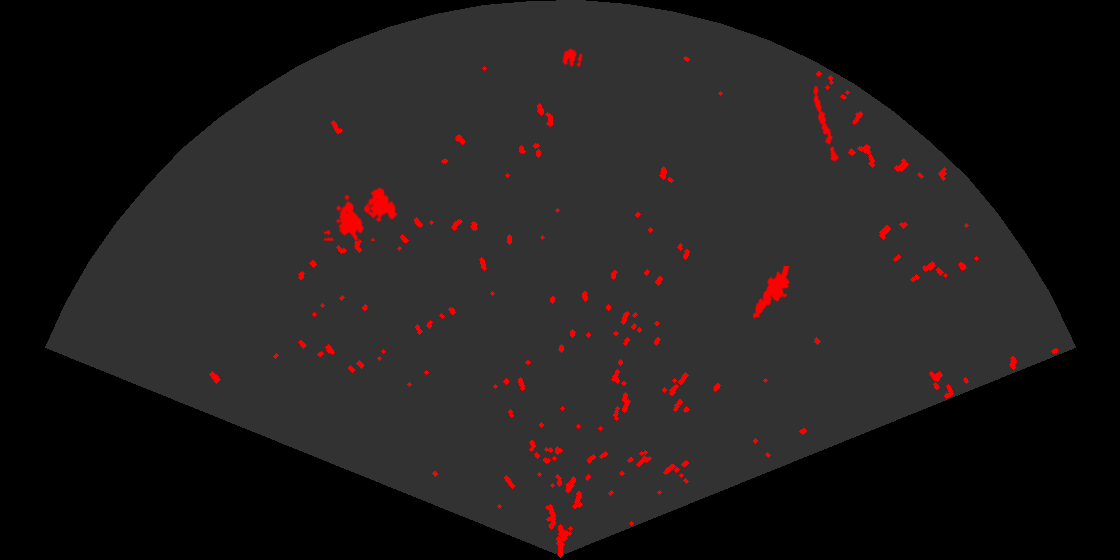ball: (560, 47, 585, 69)
cage: (324, 186, 399, 241)
chain: (812, 83, 840, 166)
frogman: (751, 266, 791, 321)
